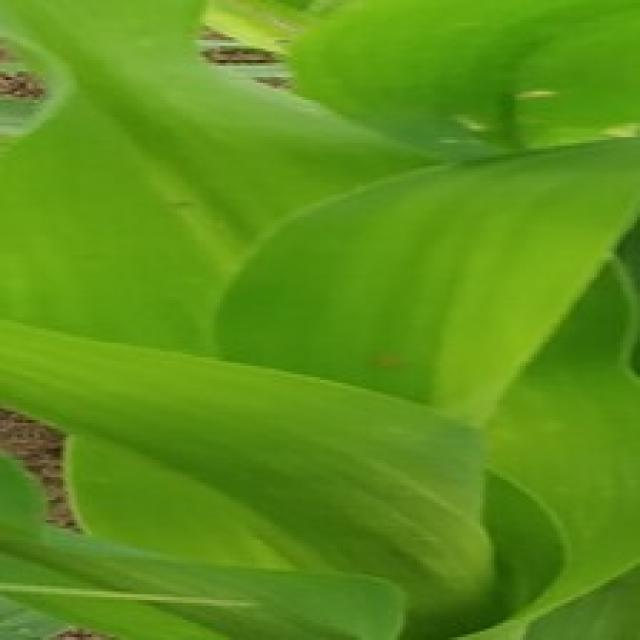Corn: (0, 0, 637, 637), (286, 0, 637, 160)
